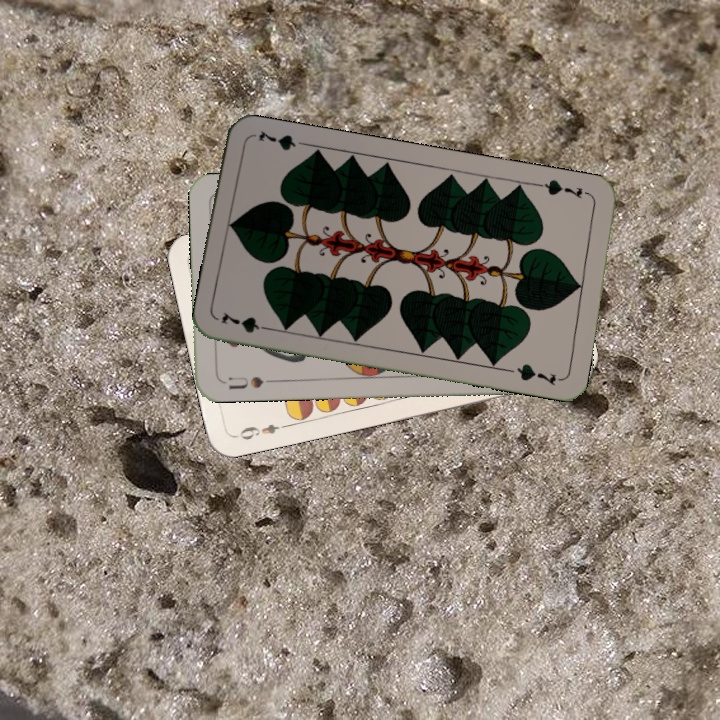E9: (231, 420, 290, 443)
G7: (217, 308, 276, 336), (535, 175, 593, 202)
SU: (224, 372, 277, 392)
